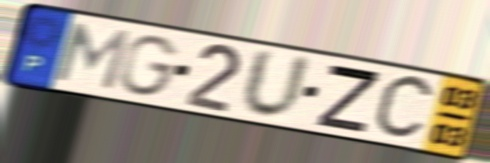2: (184, 43, 242, 115)
C: (369, 72, 438, 143)
G: (116, 33, 183, 99)
M: (51, 20, 134, 93)
U: (238, 45, 315, 123)
Z: (314, 61, 383, 136)
